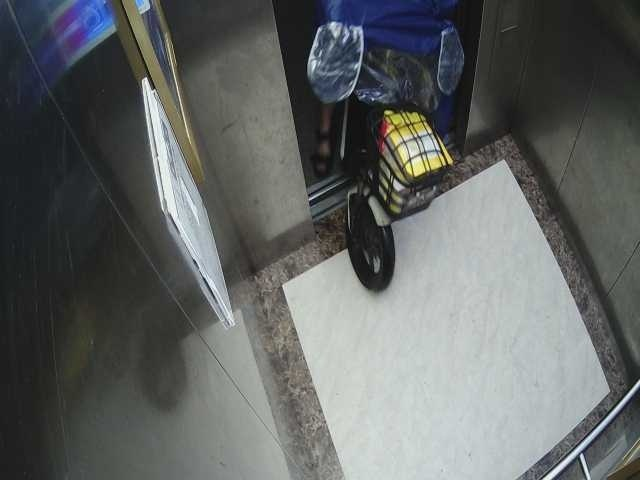emotor: (294, 15, 472, 287)
